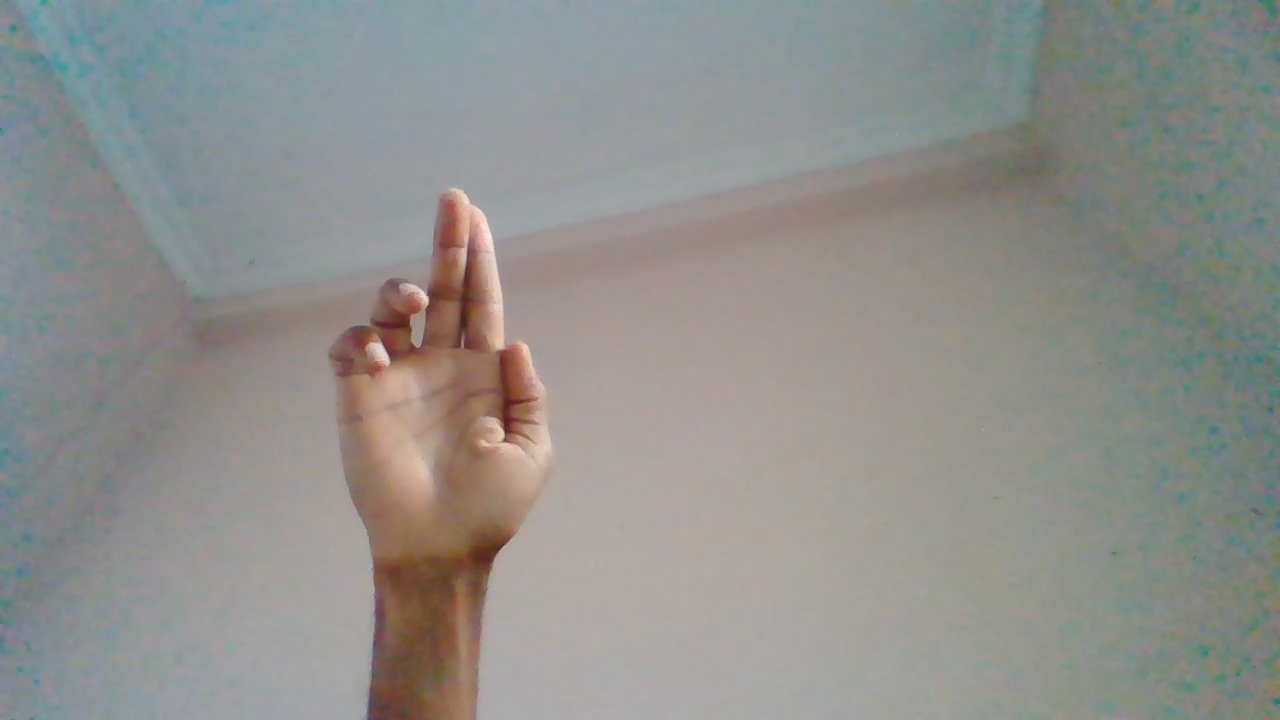gne: (332, 191, 552, 672)
